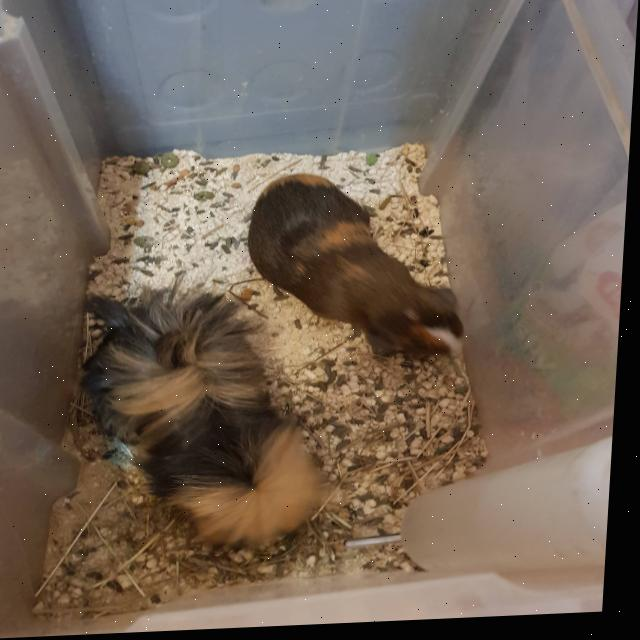guinea pig: (78, 285, 345, 563), (242, 166, 483, 375)
